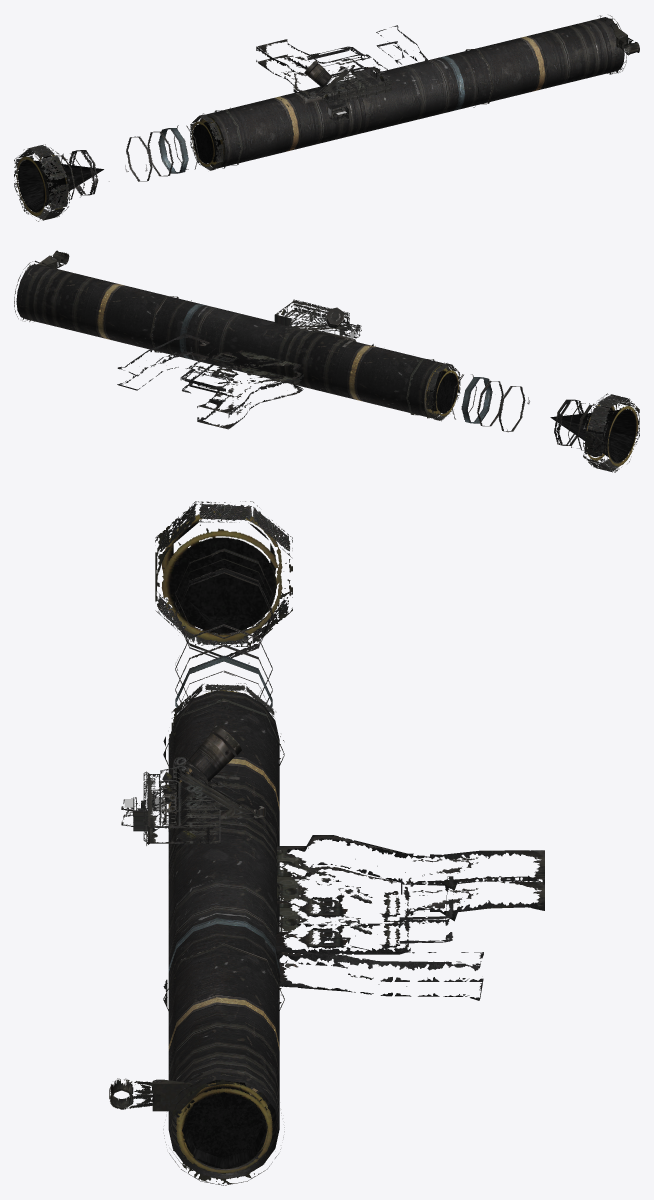
The model's file is t6_wpn_launch_smaw_world_LOD0.obj.
The picture shows the model from 3 angles, top to bottom: view 1: azimuth 30°, elevation 25°; view 2: azimuth 150°, elevation 25°; view 3: azimuth 270°, elevation 25°; orthographic projection. The views are drawn at different scales.
Parts seen in each view (by area): view 1: mtl_t6_wpn_launch_smaw, mtl_t6_wpn_launch_smaw_camo2, mtl_t6_wpn_launch_smaw_camo3, mtl_t6_wpn_launch_smaw_camo4, mtl_t6_wpn_launch_smaw_camo5; view 2: mtl_t6_wpn_launch_smaw, mtl_t6_wpn_launch_smaw_camo2, mtl_t6_wpn_launch_smaw_camo3, mtl_t6_wpn_launch_smaw_camo5, mtl_t6_wpn_launch_smaw_camo4; view 3: mtl_t6_wpn_launch_smaw, mtl_t6_wpn_launch_smaw_camo2, mtl_t6_wpn_launch_smaw_camo3, mtl_t6_wpn_launch_smaw_camo4, mtl_t6_wpn_launch_smaw_camo5.
Boxes of the visible parts, x1,y1,x2,y2 form: mtl_t6_wpn_launch_smaw: (199,17,627,168); mtl_t6_wpn_launch_smaw_camo2: (14,15,639,216); mtl_t6_wpn_launch_smaw_camo3: (295,49,493,123); mtl_t6_wpn_launch_smaw_camo4: (14,79,361,221); mtl_t6_wpn_launch_smaw_camo5: (19,159,103,211); mtl_t6_wpn_launch_smaw: (16,255,450,418); mtl_t6_wpn_launch_smaw_camo2: (14,250,639,471); mtl_t6_wpn_launch_smaw_camo3: (150,296,361,355); mtl_t6_wpn_launch_smaw_camo5: (550,409,635,462); mtl_t6_wpn_launch_smaw_camo4: (311,307,639,472); mtl_t6_wpn_launch_smaw: (126,690,279,1179); mtl_t6_wpn_launch_smaw_camo2: (109,503,544,1185); mtl_t6_wpn_launch_smaw_camo3: (121,756,284,1010); mtl_t6_wpn_launch_smaw_camo4: (126,501,292,824); mtl_t6_wpn_launch_smaw_camo5: (182,600,266,1168).
Bounding box in the file's own units: 125 × 18 × 40.71.
